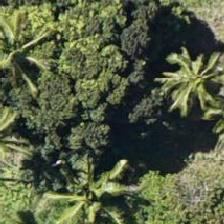coconut_tree: (151, 43, 223, 133), (50, 154, 140, 223)
